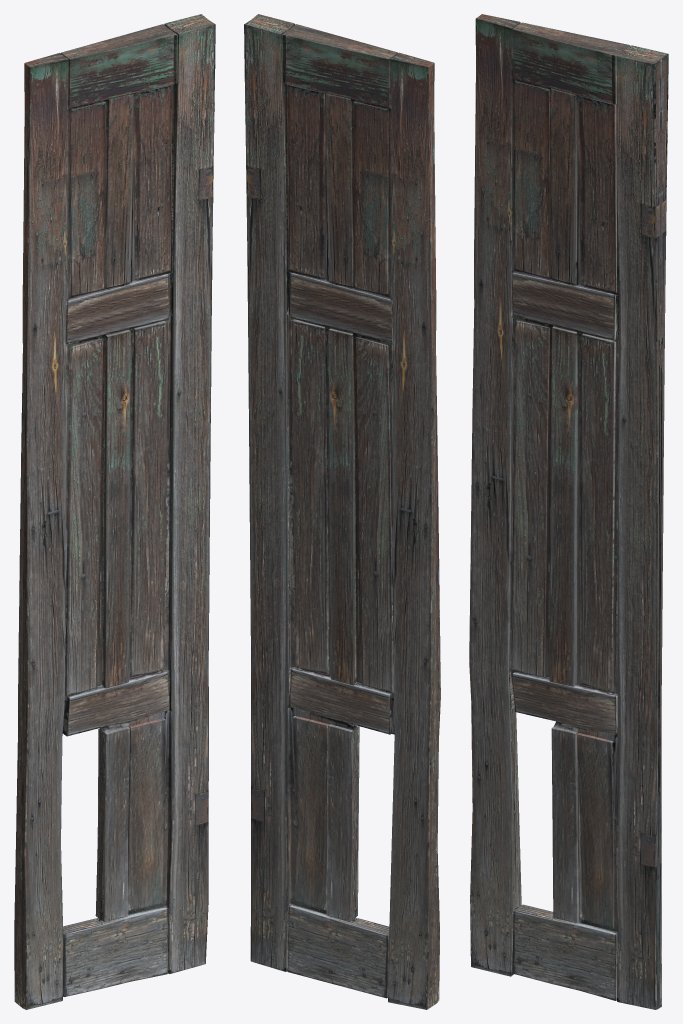
File: SM_Door_01_02.fbx
The picture shows the model from 3 angles, left to right: view 1: azimuth 30°, elevation 25°; view 2: azimuth 150°, elevation 25°; view 3: azimuth 330°, elevation 25°; orthographic projection.
Visible parts, largest first — view 1: sm_Door_01_02_LOD0; view 2: sm_Door_01_02_LOD0; view 3: sm_Door_01_02_LOD0.
Part boxes in pixels (x1=…): sm_Door_01_02_LOD0: x1=14, y1=14, x2=215, y2=1009; sm_Door_01_02_LOD0: x1=244, y1=14, x2=440, y2=1009; sm_Door_01_02_LOD0: x1=469, y1=14, x2=668, y2=1009.
Size of the model in its own units: 9.52 by 60.84 by 293.
